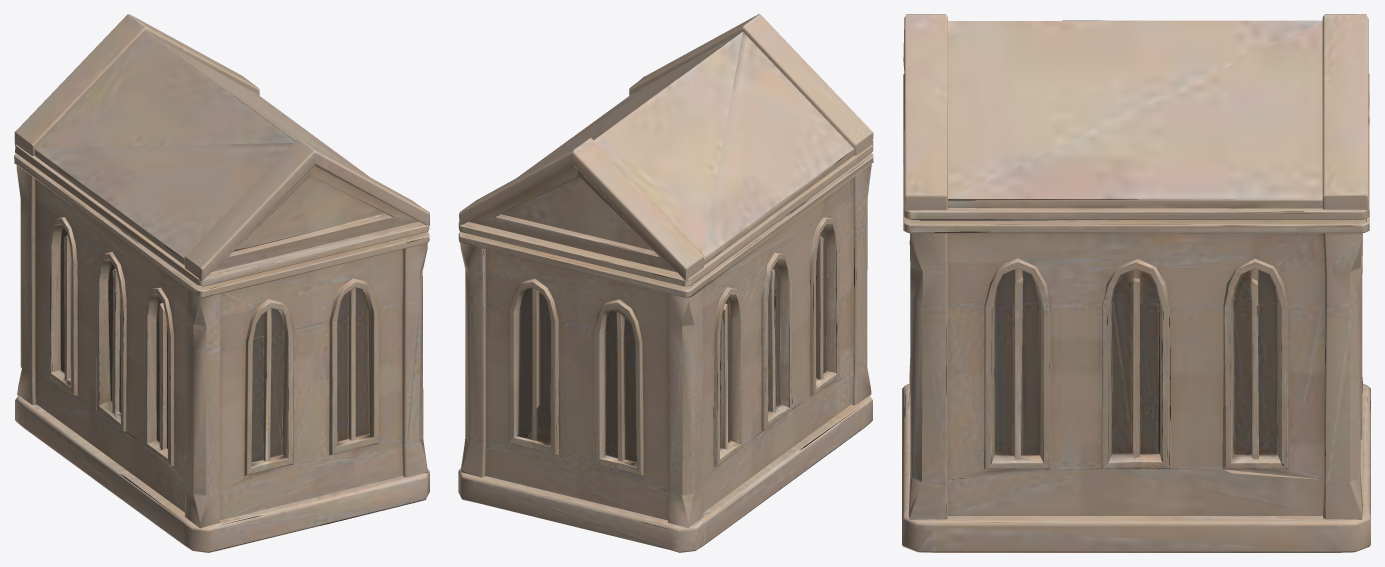
Rendered from 33-library.glb.
3 renders of one model, left to right at view 1: azimuth 30°, elevation 25°; view 2: azimuth 150°, elevation 25°; view 3: azimuth 270°, elevation 25°, orthographic. The views are drawn at different scales.
Parts seen in each view (by area): view 1: geometry_0; view 2: geometry_0; view 3: geometry_0.
Part boxes in pixels (x1=…): geometry_0: x1=14, y1=14, x2=429, y2=552; geometry_0: x1=458, y1=14, x2=873, y2=552; geometry_0: x1=902, y1=14, x2=1370, y2=552.
Size of the model in its own units: 0.6318 by 0.9492 by 0.8657.
Materials: 1 (1 with a texture image).
